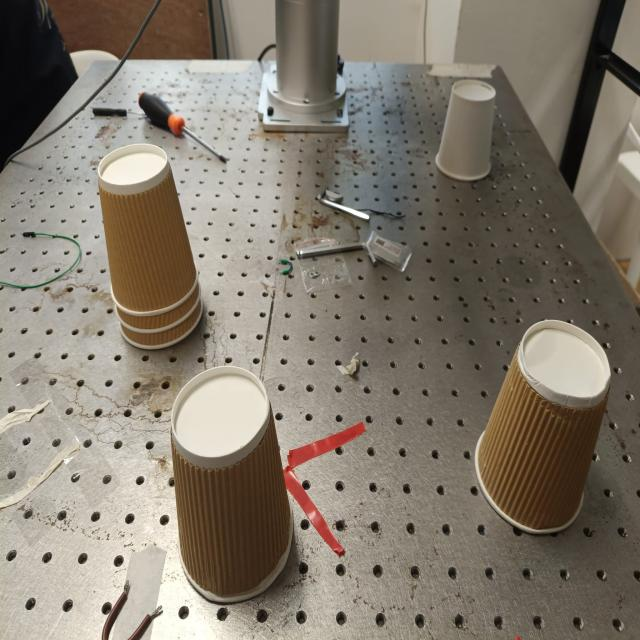Browncup: (171, 365, 293, 602), (476, 355, 608, 533), (98, 143, 201, 348), (121, 285, 202, 349), (116, 285, 200, 329)
Whitecup: (435, 79, 496, 181)
